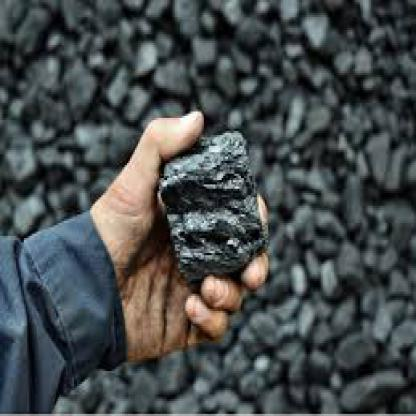Sedimentary_coal: (157, 140, 266, 276)
